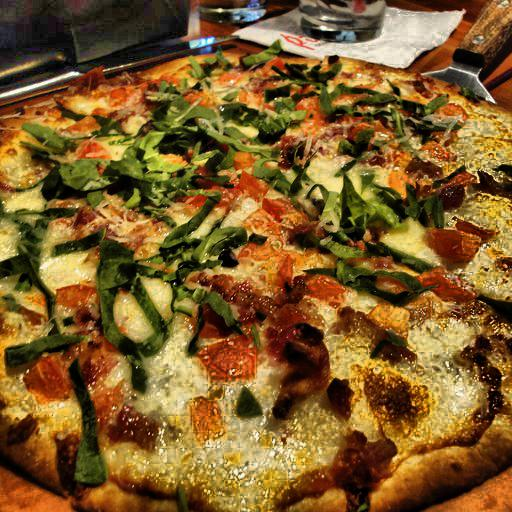pizza: (3, 53, 512, 512)
